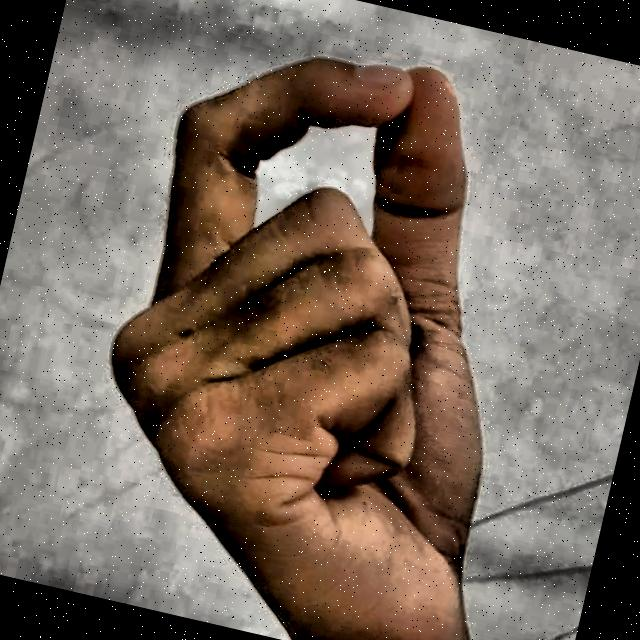Gha: (14, 0, 631, 640)
